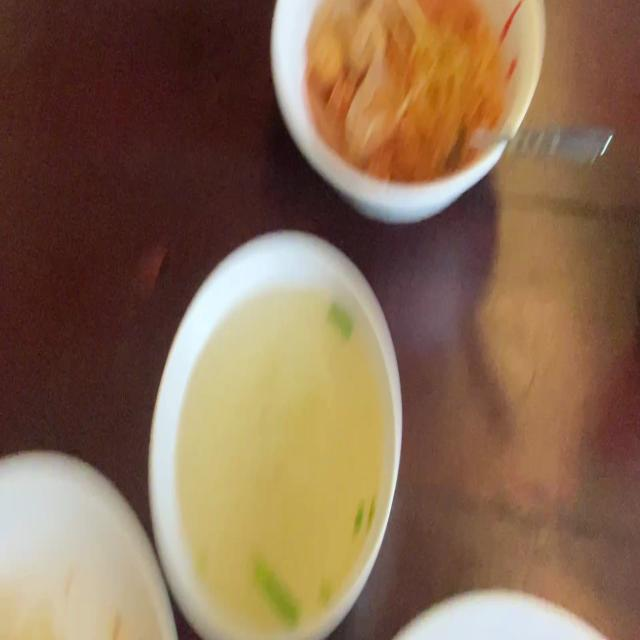fried_fish_balls: (346, 47, 406, 154)
noodle: (304, 0, 508, 182)
